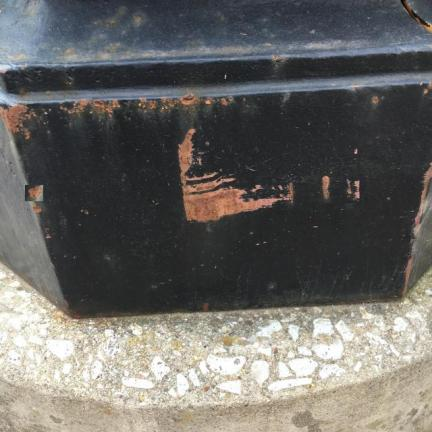besi_tidak_karat: (55, 198, 416, 305), (216, 108, 430, 193), (36, 125, 177, 241), (2, 134, 63, 309)
karat: (177, 133, 280, 222), (69, 100, 119, 114), (0, 107, 28, 131), (160, 95, 195, 108), (322, 178, 328, 197), (373, 96, 381, 103)
